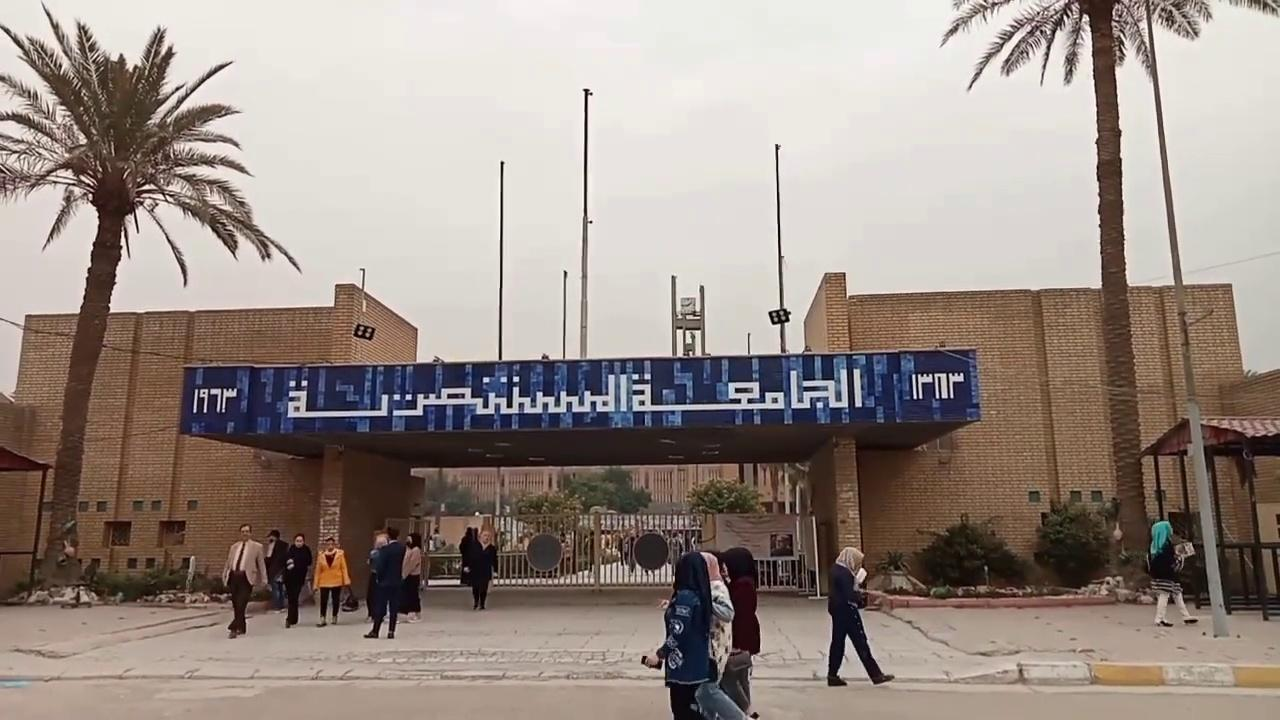person: (641, 551, 751, 719), (826, 546, 894, 686), (717, 547, 761, 719), (1147, 519, 1199, 626), (220, 523, 268, 638), (363, 527, 406, 639), (311, 537, 351, 626), (282, 533, 312, 627), (465, 526, 498, 610), (363, 533, 389, 621), (399, 532, 424, 622), (263, 529, 289, 613), (429, 526, 445, 551)
tree: (937, 0, 1277, 590), (0, 2, 301, 595), (911, 511, 1021, 588), (1032, 498, 1112, 588), (564, 466, 652, 515), (683, 475, 766, 518), (513, 487, 582, 536), (874, 548, 911, 591)
